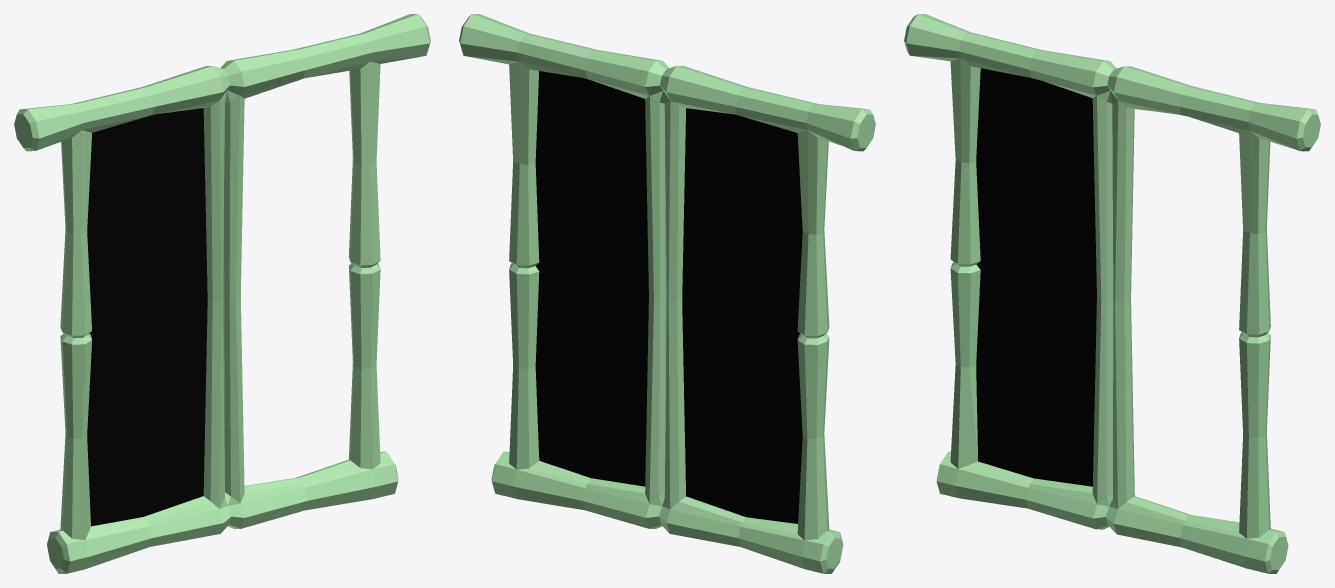
Rendered from window_05_closed.fbx.
3 renders of one model, left to right at view 1: azimuth 30°, elevation 25°; view 2: azimuth 150°, elevation 25°; view 3: azimuth 330°, elevation 25°, orthographic.
Visible parts, largest first — view 1: window_05_closed; view 2: window_05_closed; view 3: window_05_closed.
Part boxes in pixels (<box>): window_05_closed: <box>14,14,430,573</box>; window_05_closed: <box>459,14,875,573</box>; window_05_closed: <box>904,14,1320,573</box>.
Size of the model in its own units: 154 by 174 by 15.6.
